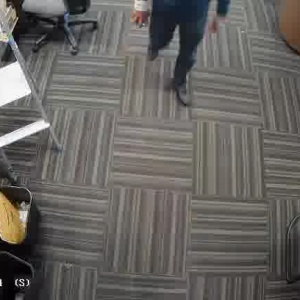person: (139, 0, 223, 117)
